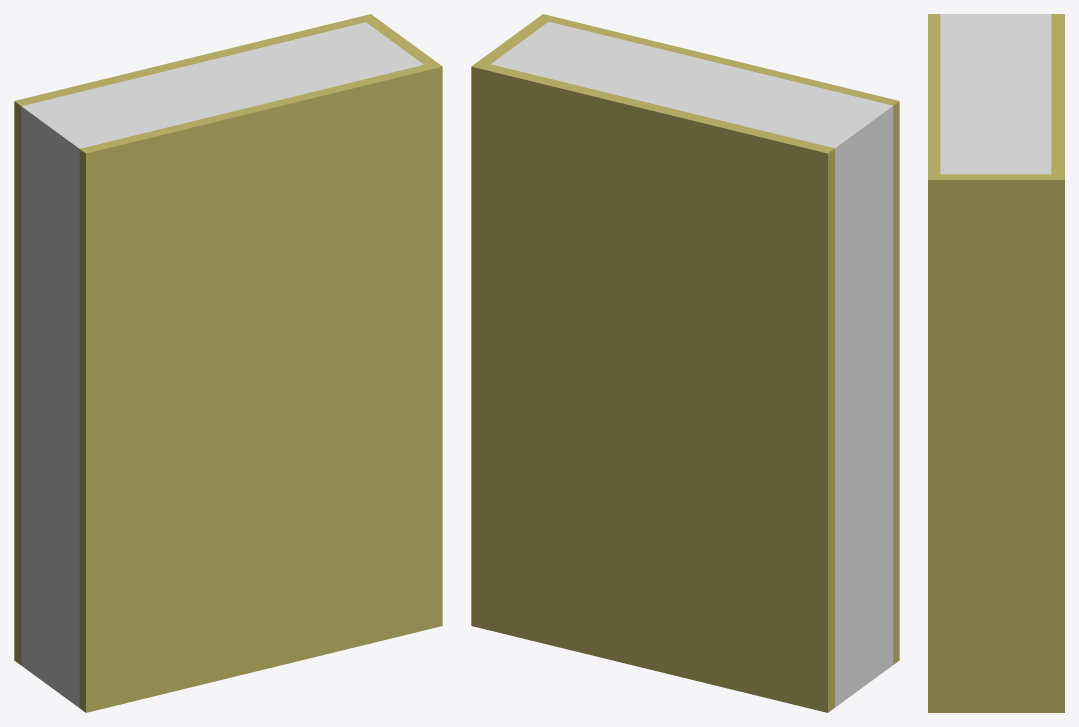
The model's file is BookYellow.fbx.
The picture shows the model from 3 angles, left to right: view 1: azimuth 30°, elevation 25°; view 2: azimuth 150°, elevation 25°; view 3: azimuth 270°, elevation 25°; orthographic projection. The views are drawn at different scales.
Parts seen in each view (by area): view 1: BookYellow; view 2: BookYellow; view 3: BookYellow.
Boxes of the visible parts, box(x1,y1,x2,y2) form: BookYellow: box(14, 14, 442, 712); BookYellow: box(471, 14, 899, 712); BookYellow: box(928, 14, 1064, 712).
Size of the model in its own units: 21.12 by 31.65 by 7.37.
